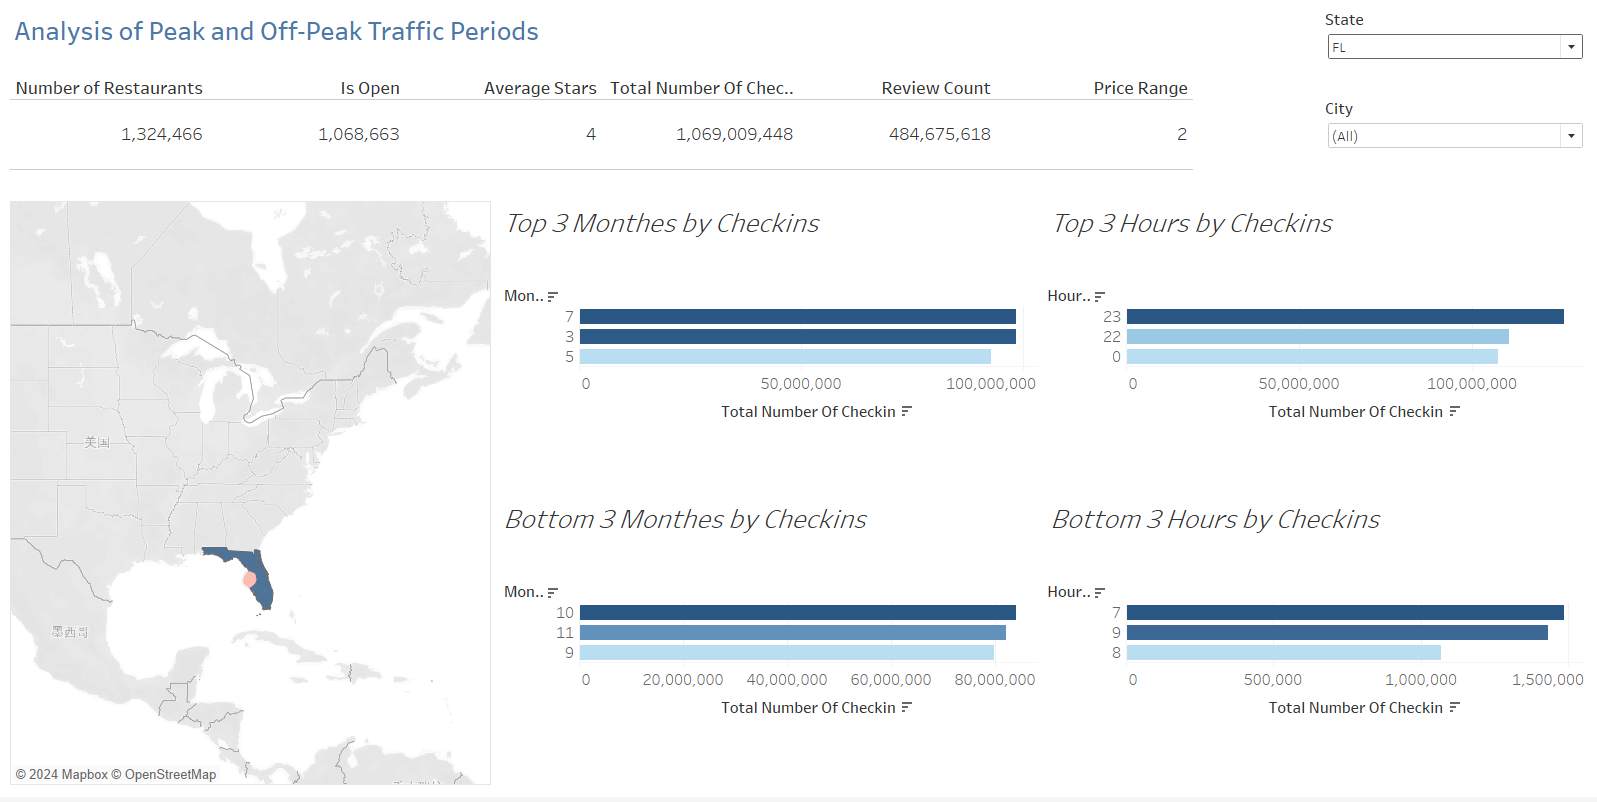

The page's visual inventory and layout, read from the dashboard file:
{"tool":"tableau","page":{"name":"Top and Bottom","canvas":[1600,800],"ordinal":1},"visuals":[{"type":"worksheet","title":"Overview Table","mark":"Automatic","box":[8,8,1315,192]},{"type":"filter","title":"Map","param":"[federated.04s5m5o0ixxofv187frpv17251t0].[none:state:nk]","box":[1323,8,269,89]},{"type":"filter","title":"Top 3 Monthes by Checkins","param":"[federated.04s5m5o0ixxofv187frpv17251t0].[none:city:nk]","box":[1323,97,269,103]},{"type":"worksheet","title":"Map","mark":"Multipolygon","box":[8,200,489,592]},{"type":"worksheet","title":"Top 3 Monthes by Checkins","mark":"Bar","rows":["date"],"cols":["total_number_of_checkin"],"box":[497,200,547.4,296]},{"type":"worksheet","title":"Top 3 Hours by Checkins","mark":"Bar","rows":["date"],"cols":["total_number_of_checkin"],"box":[1044.4,200,547.6,296]},{"type":"worksheet","title":"Bottom 3 Monthes by Checkins","mark":"Bar","rows":["date"],"cols":["total_number_of_checkin"],"box":[497,496,547.4,296]},{"type":"worksheet","title":"Bottom 3 Hours by Checkins","mark":"Bar","rows":["date"],"cols":["total_number_of_checkin"],"box":[1044.4,496,547.6,296]}]}

Visuals, with their boxes in screenshot pixels (x1, y1, x2, y2), scaled from the page's 1600x800 canvas onto the 1597x802 screenshot:
"Overview Table" worksheet: 8:8:1321:200
"Map" filter: 1321:8:1589:97
"Top 3 Monthes by Checkins" filter: 1321:97:1589:200
"Map" worksheet (Multipolygon marks): 8:200:496:794
"Top 3 Monthes by Checkins" worksheet (Bar marks): 496:200:1042:497
"Top 3 Hours by Checkins" worksheet (Bar marks): 1042:200:1589:497
"Bottom 3 Monthes by Checkins" worksheet (Bar marks): 496:497:1042:794
"Bottom 3 Hours by Checkins" worksheet (Bar marks): 1042:497:1589:794
